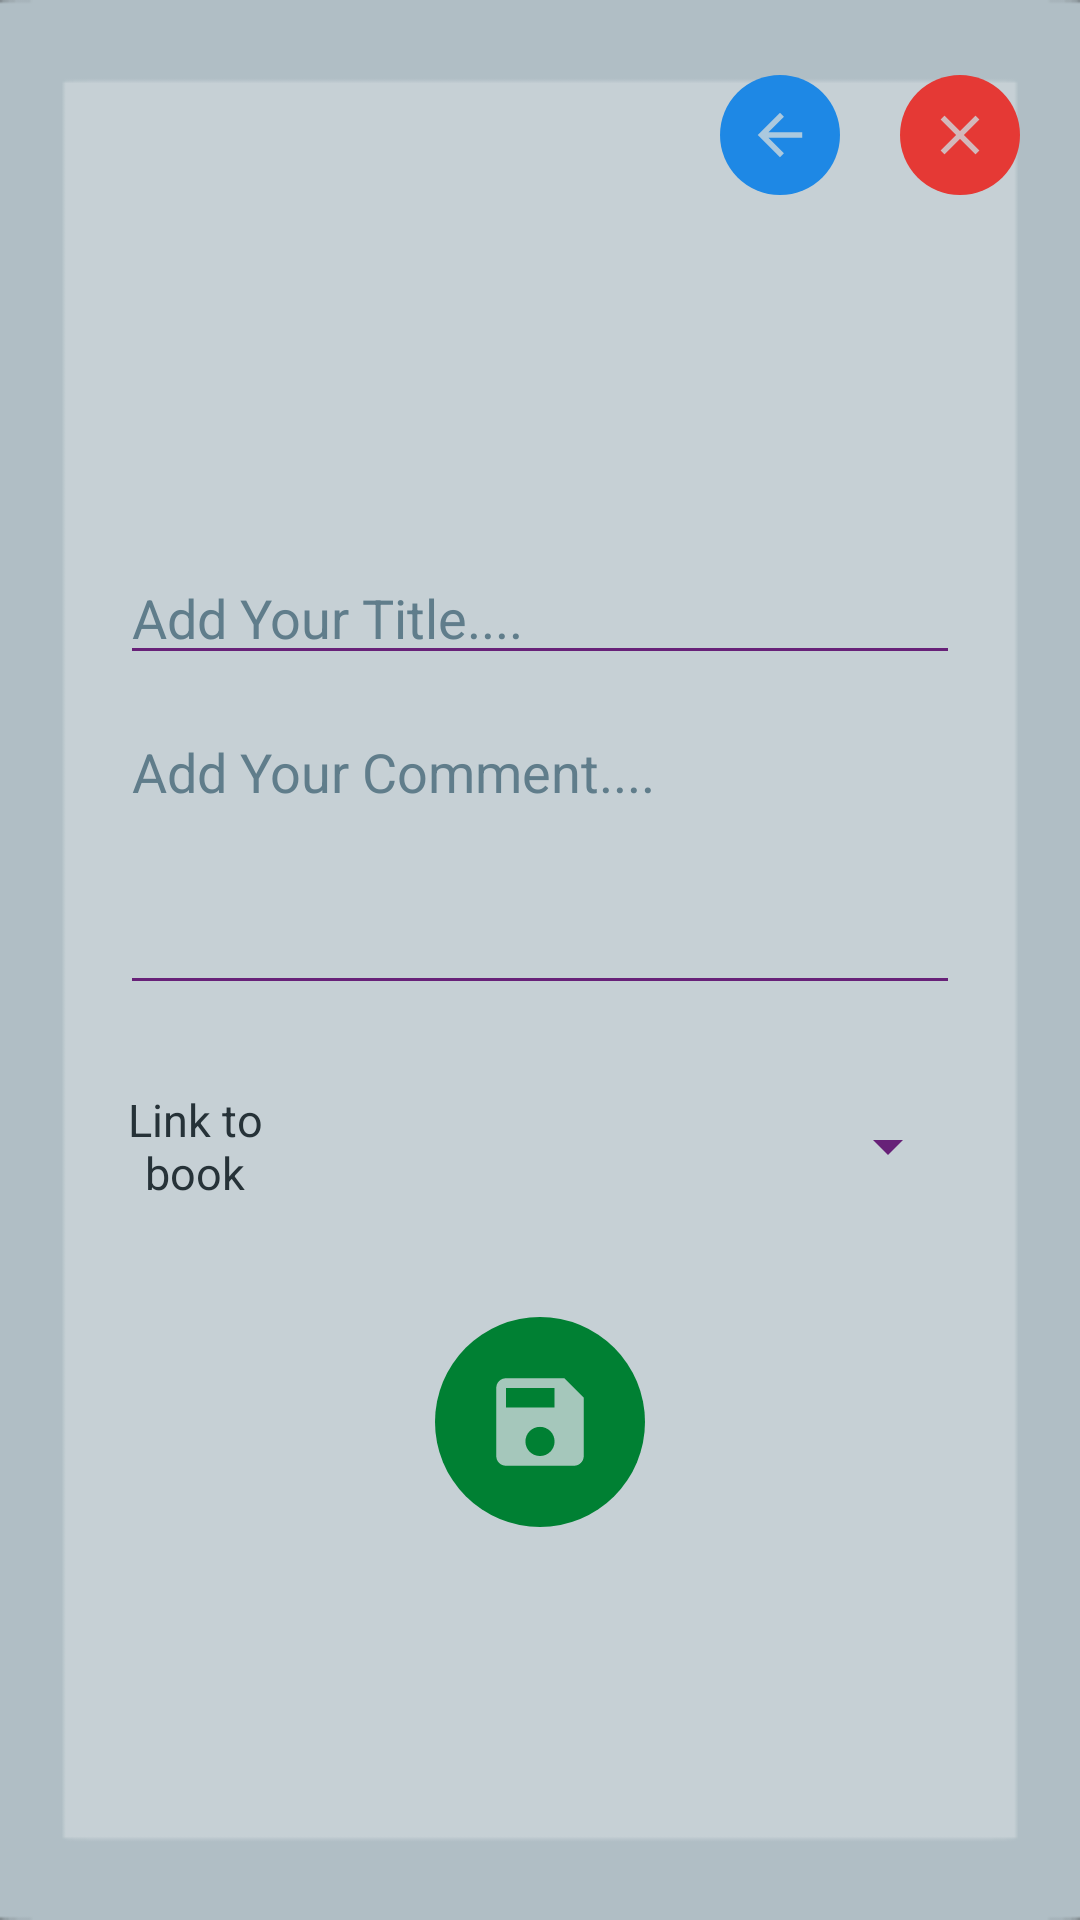

Icons on this 1080w x 1920h Android screen, each with the point to tap as (x=x, y=y):
Back: (x=780, y=135)
close: (x=960, y=135)
save: (x=540, y=1422)
